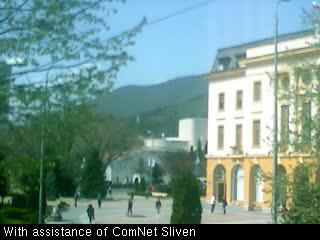person: (86, 203, 95, 224), (280, 201, 287, 220), (210, 194, 216, 214), (154, 198, 161, 215), (127, 197, 133, 215), (97, 192, 103, 209), (222, 197, 227, 215), (73, 192, 78, 207), (130, 192, 135, 204), (108, 184, 112, 197)
